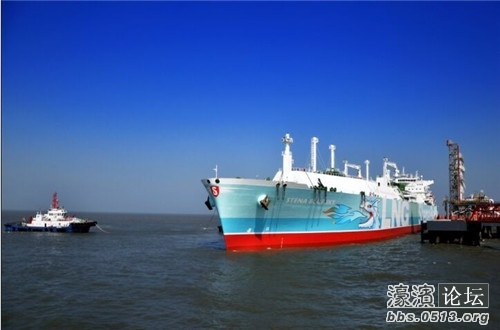Cargoship: (193, 133, 438, 258)
otherboat: (2, 197, 97, 237)
